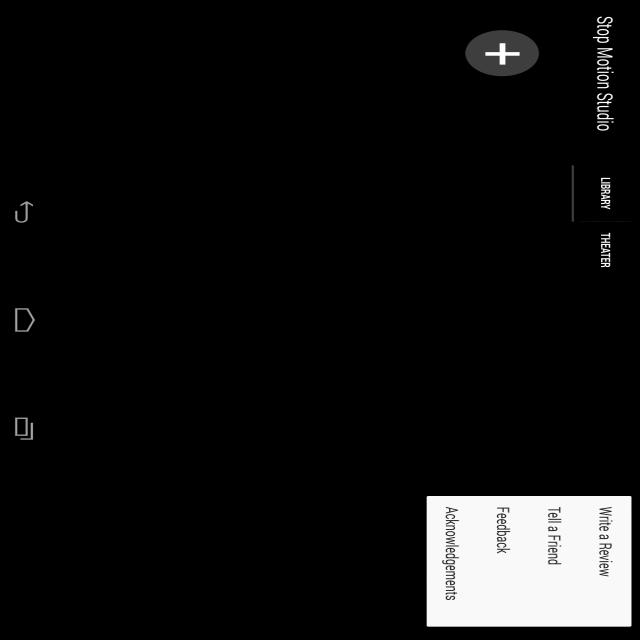ImageButton: (460, 29, 541, 78)
TextView: (588, 9, 620, 138), (438, 501, 467, 605), (540, 504, 569, 569), (592, 502, 616, 578), (490, 503, 512, 558)
